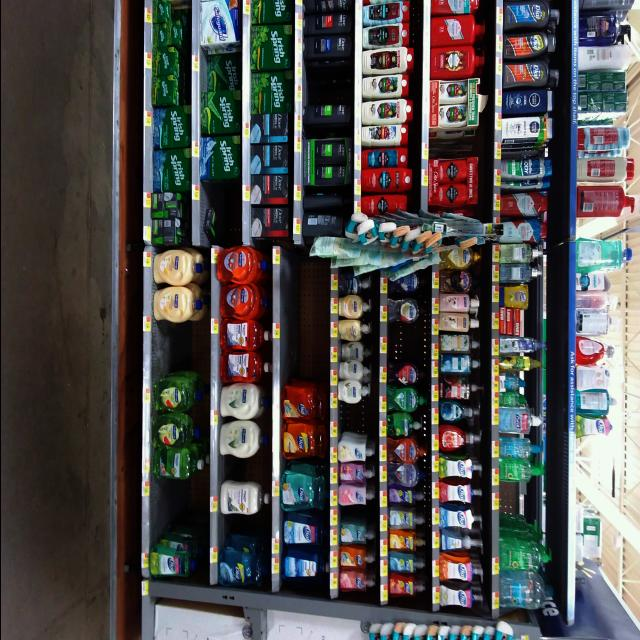empty_space: (284, 260, 324, 376), (152, 479, 196, 521), (156, 326, 200, 366), (575, 441, 603, 503), (496, 483, 532, 513), (425, 139, 471, 161), (388, 324, 416, 360), (300, 78, 341, 102), (199, 180, 233, 208), (219, 513, 261, 535), (218, 459, 258, 481), (338, 404, 368, 432), (581, 218, 615, 239)
